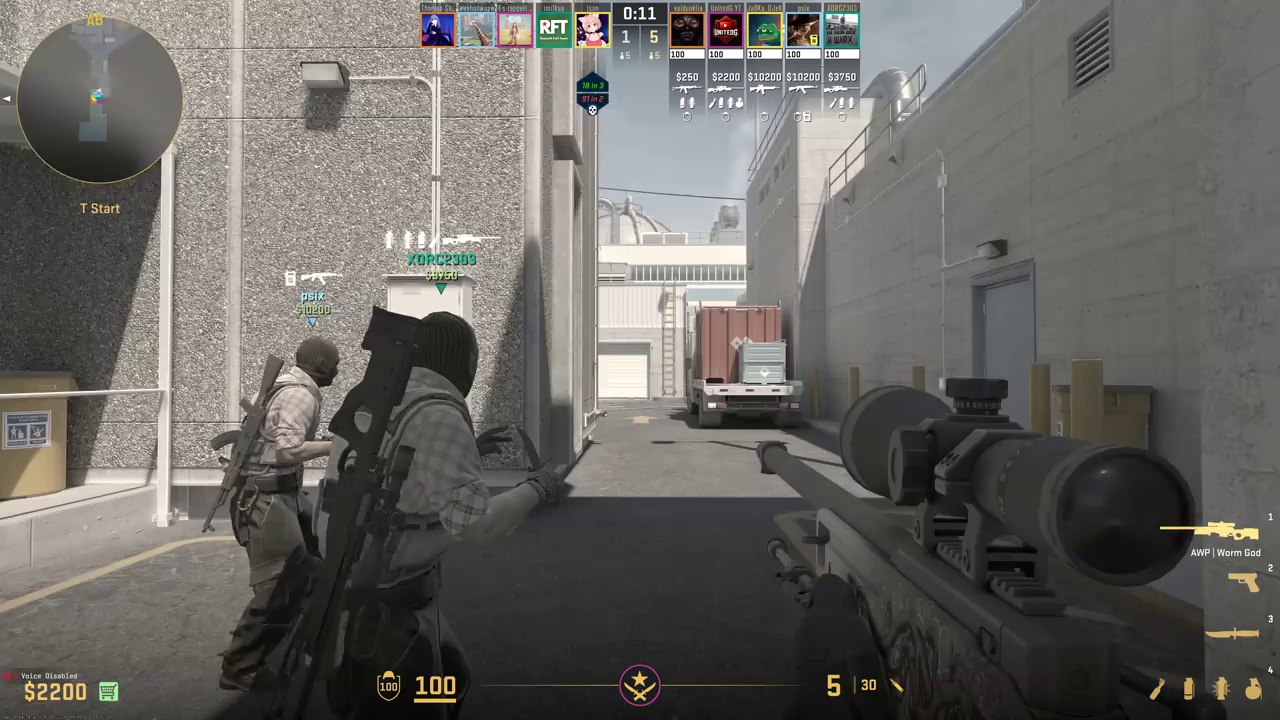Terrorist: (330, 319, 511, 714), (217, 336, 341, 699)
